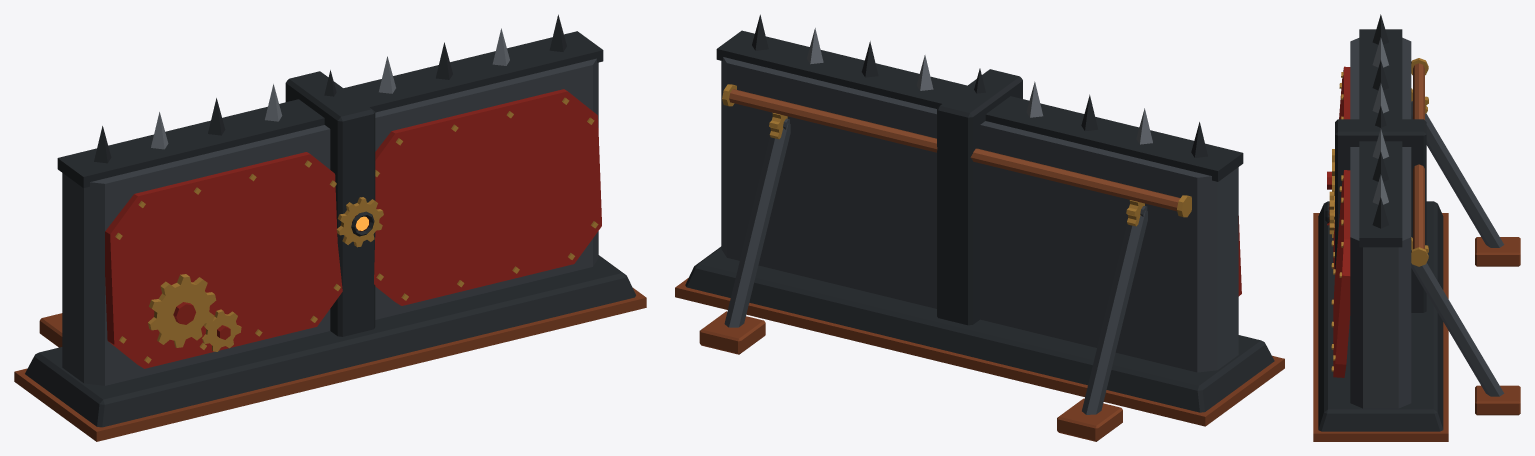
The model's file is env_cog_barricade.fbx.
3 views of the same model, side by side, from view 1: azimuth 30°, elevation 25°; view 2: azimuth 150°, elevation 25°; view 3: azimuth 270°, elevation 25° (orthographic). The views are drawn at different scales.
Visible parts, largest first — view 1: Body; view 2: Body; view 3: Body.
Part boxes in pixels (x1=…): Body: x1=14, y1=14, x2=646, y2=441; Body: x1=675, y1=14, x2=1284, y2=441; Body: x1=1313, y1=14, x2=1520, y2=441.
Bounding box in the file's own units: 10.26 × 4.93 × 4.08.
Materials: 2 (1 with a texture image).
